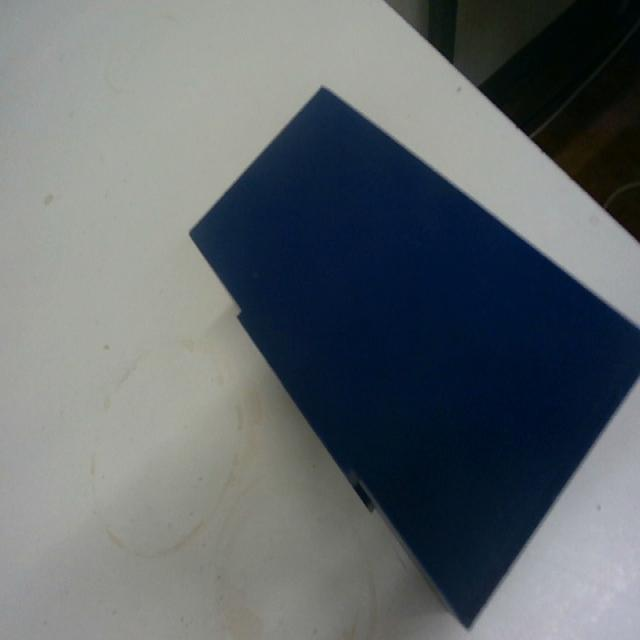Blue Cuboid: (187, 81, 639, 628)
